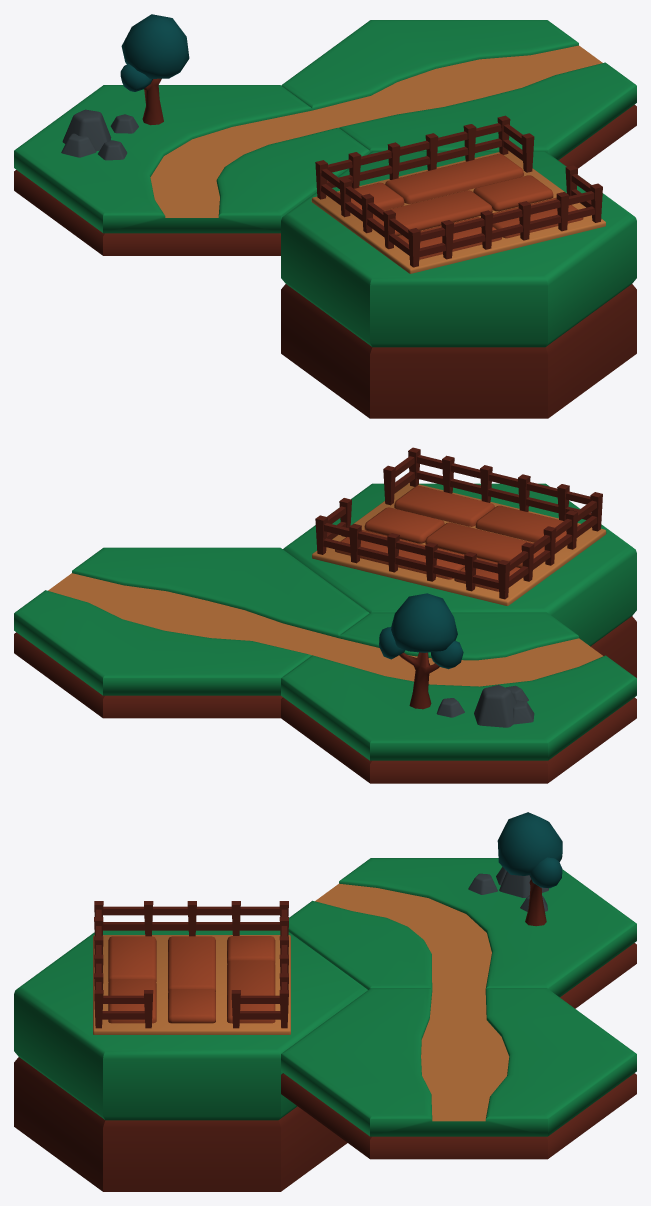
Rendered from castletrack.obj.
3 renders of one model, top to bottom at view 1: azimuth 30°, elevation 25°; view 2: azimuth 150°, elevation 25°; view 3: azimuth 270°, elevation 25°, orthographic.
Visible parts, largest first — view 1: mergedBlocks; view 2: mergedBlocks; view 3: mergedBlocks.
Boxes of the visible parts, bbox=[...] form: mergedBlocks: bbox=[14, 14, 636, 418]; mergedBlocks: bbox=[14, 447, 636, 783]; mergedBlocks: bbox=[14, 812, 636, 1191].
Bounding box in the file's own units: 4 × 1.76 × 4.04.
